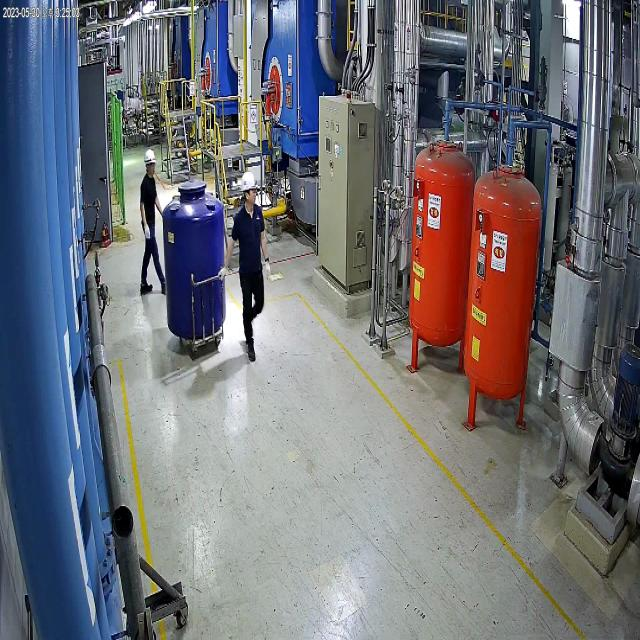Water Tank: (162, 173, 230, 364)
worker: (218, 162, 274, 367), (138, 139, 172, 306)
